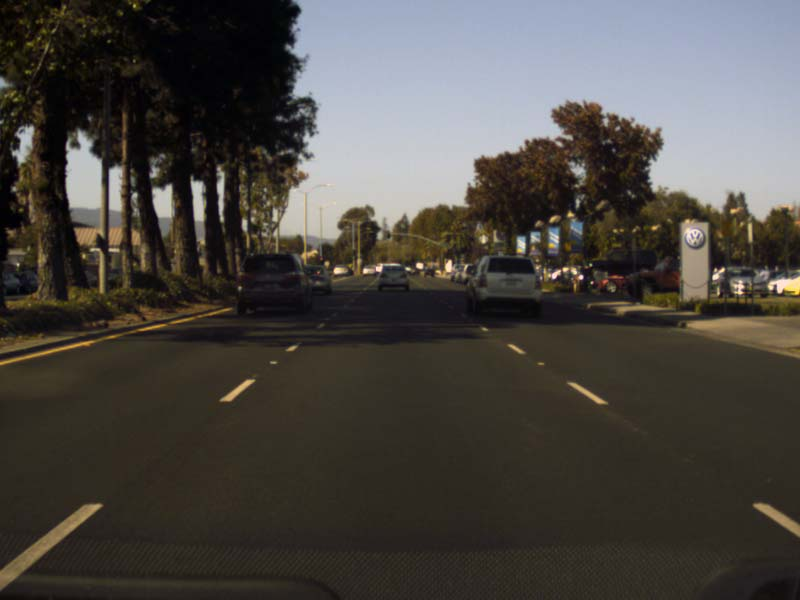Red: (318, 256, 323, 264)
